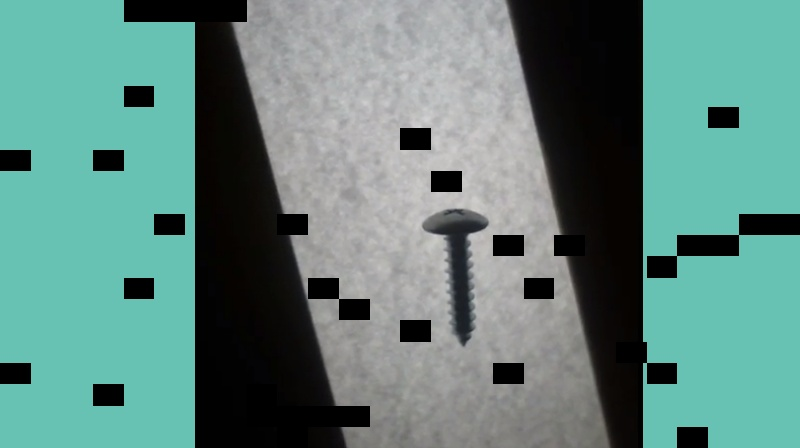S003: (419, 203, 491, 351)
